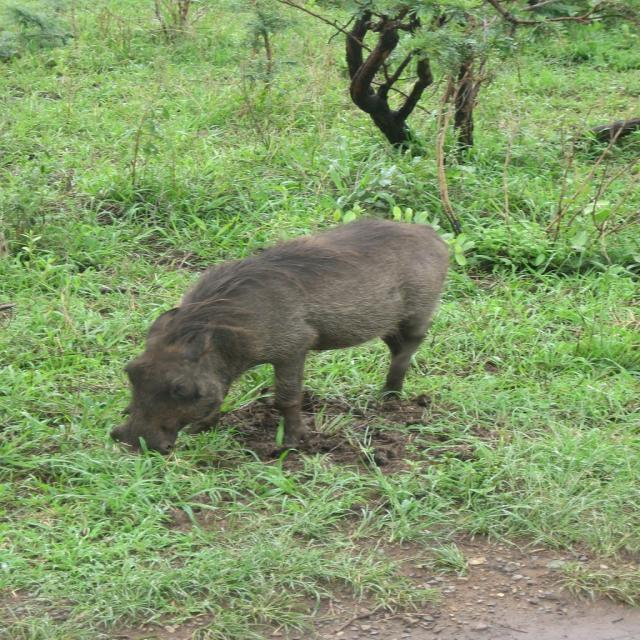Pig: (110, 217, 450, 459)
